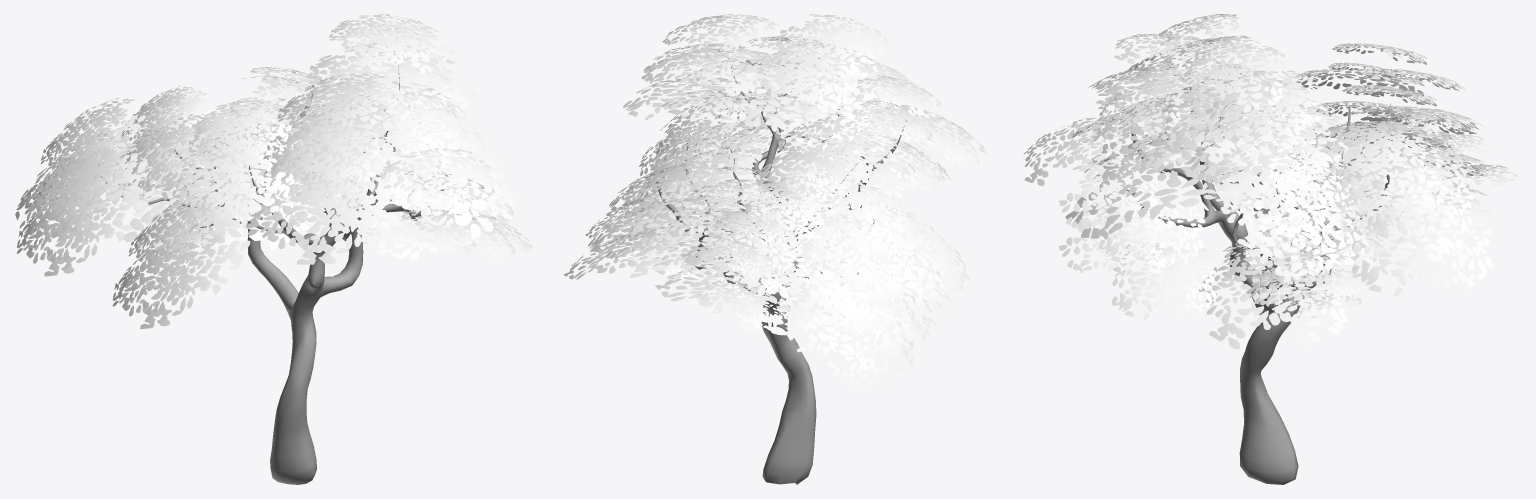
Rendered from SM_Tree_Leaves.fbx.
The picture shows the model from 3 angles, left to right: view 1: azimuth 30°, elevation 25°; view 2: azimuth 150°, elevation 25°; view 3: azimuth 270°, elevation 25°; orthographic projection. The views are drawn at different scales.
Parts seen in each view (by area): view 1: Tree_Test_Leaves; view 2: Tree_Test_Leaves; view 3: Tree_Test_Leaves.
Boxes of the visible parts, left/top/right/bottom form: Tree_Test_Leaves: left=15, top=14, right=532, bottom=484; Tree_Test_Leaves: left=563, top=14, right=985, bottom=484; Tree_Test_Leaves: left=1023, top=14, right=1518, bottom=484.
Bounding box in the file's own units: 812 × 857 × 854.
